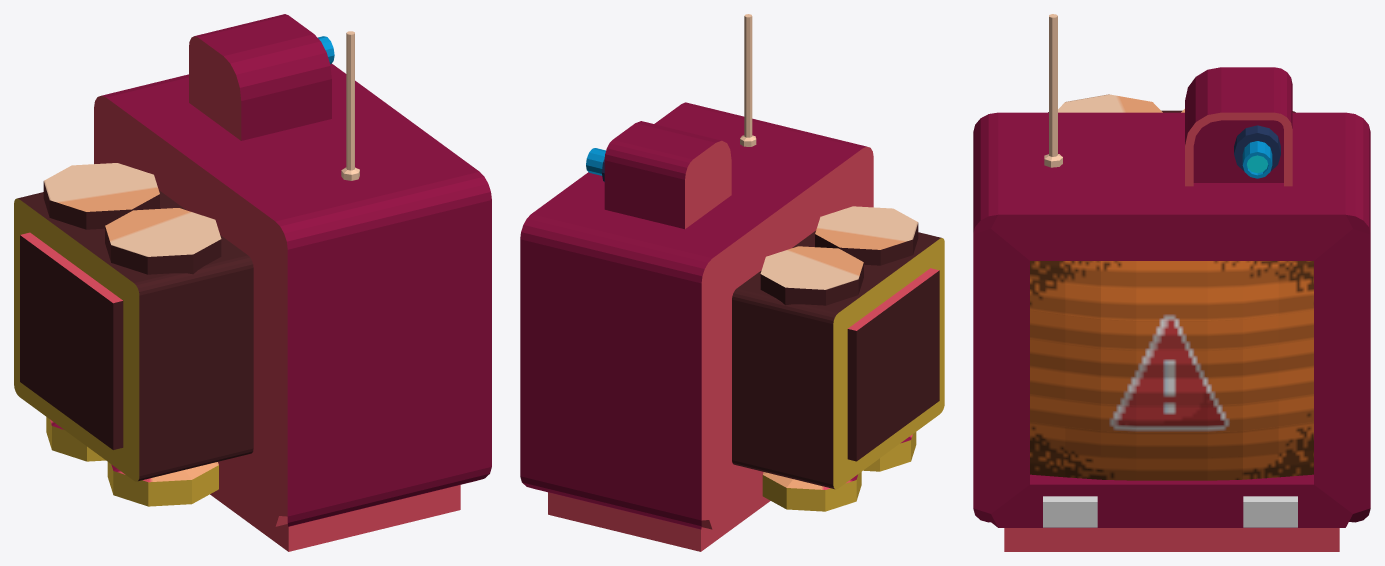
The model's file is Companion 1.fbx.
3 renders of one model, left to right at view 1: azimuth 30°, elevation 25°; view 2: azimuth 150°, elevation 25°; view 3: azimuth 270°, elevation 25°, orthographic. The views are drawn at different scales.
Parts seen in each view (by area): view 1: Cube, Cylinder.002, Cube.001, Cylinder.003; view 2: Cube, Cylinder.002, Cube.001, Cylinder.003; view 3: Cube, Cube.001, Cube.002, Cube.003, Cylinder.003, Cylinder.002, Cylinder, Cylinder.001.
Part boxes in pixels (x1,y1,x2,y2): Cube: (14, 63, 491, 551); Cylinder.002: (43, 163, 221, 506); Cube.001: (189, 14, 331, 140); Cylinder.003: (341, 31, 359, 180); Cube: (520, 102, 944, 551); Cylinder.002: (760, 206, 918, 511); Cube.001: (604, 121, 731, 229); Cylinder.003: (740, 14, 756, 146); Cube: (973, 110, 1370, 551); Cube.001: (1185, 67, 1292, 186); Cube.002: (1043, 496, 1097, 527); Cube.003: (1243, 496, 1297, 527); Cylinder.003: (1044, 14, 1062, 167); Cylinder.002: (1058, 94, 1184, 112); Cylinder: (1234, 125, 1280, 171); Cylinder.001: (1242, 141, 1272, 178).
Size of the model in its own units: 235 by 315 by 230.
